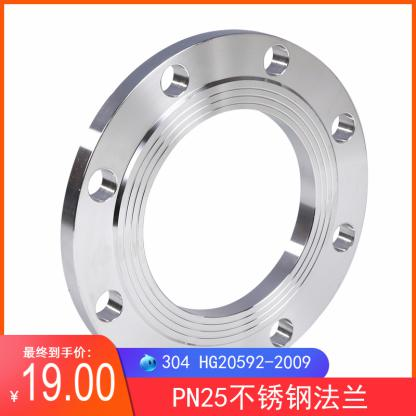FOD: (57, 26, 371, 374)
